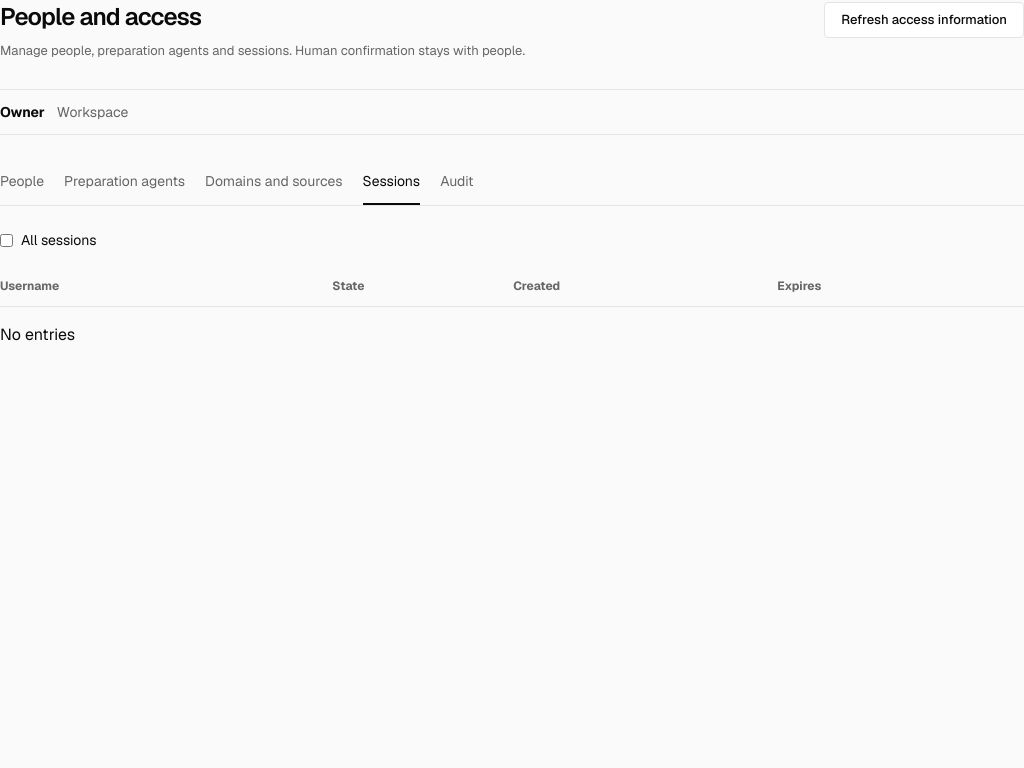
Test case: keeps a failed confirmation reviewable and does not claim that the last admin was removed
Click the button "People".
click(22, 182)  # box 0,159 -> 44,205
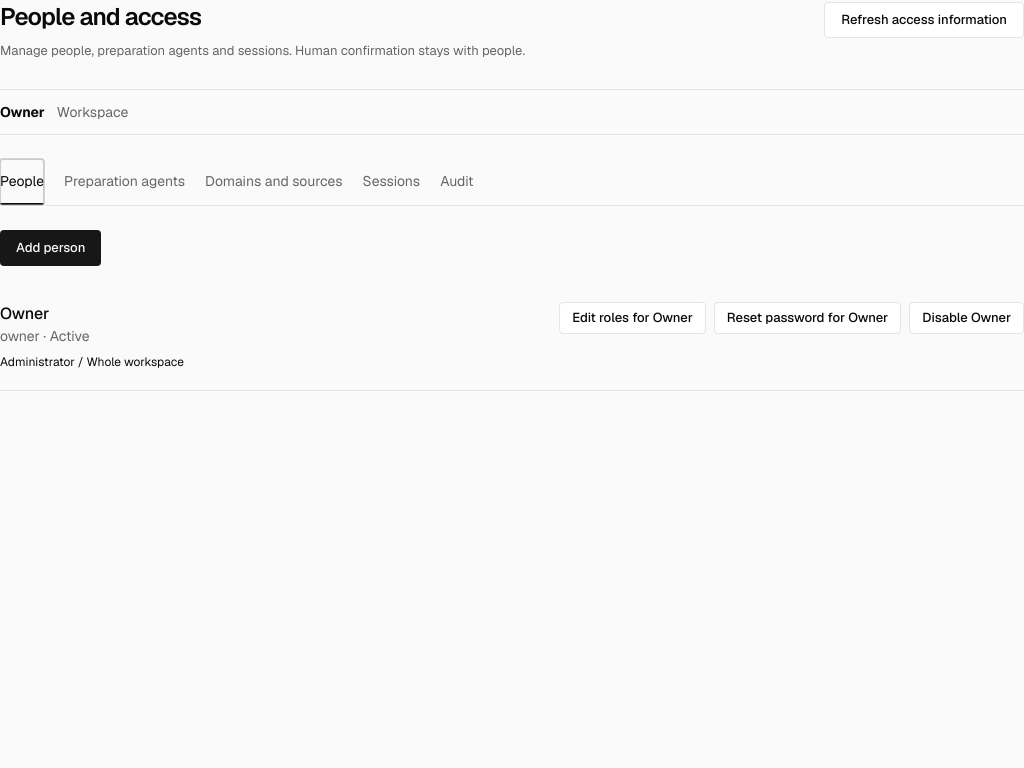
Click the button "Disable Owner".
click(967, 318)  # box 909,302 -> 1023,334
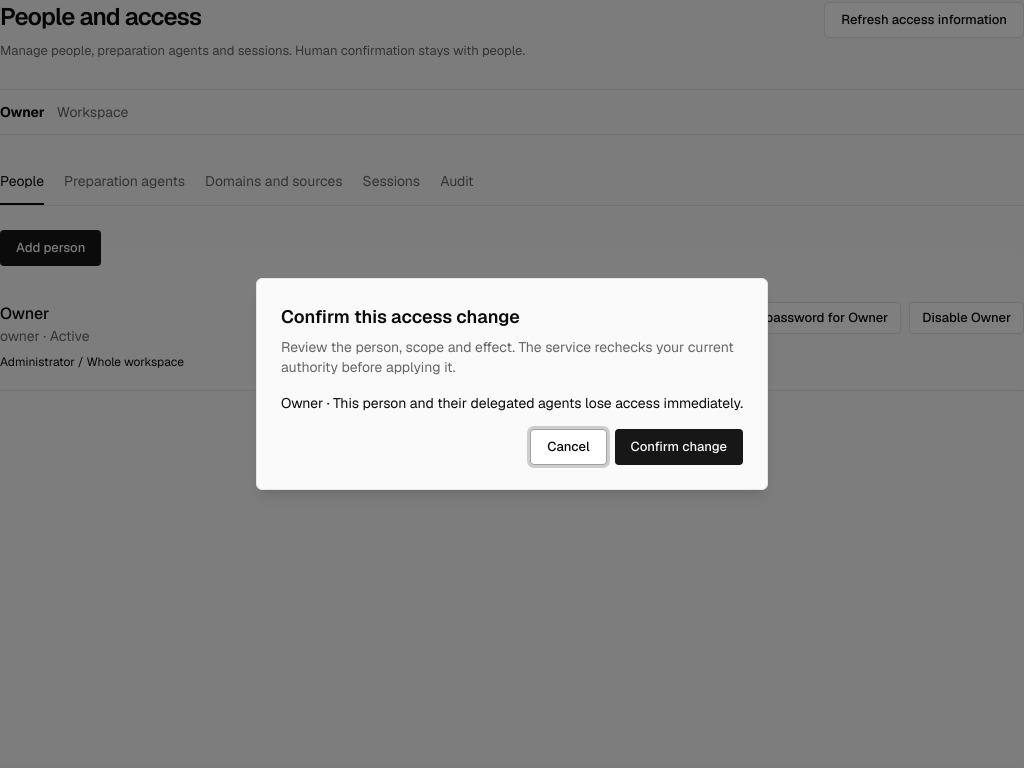
Click the button "Confirm change".
click(679, 447)  # box 615,429 -> 743,465
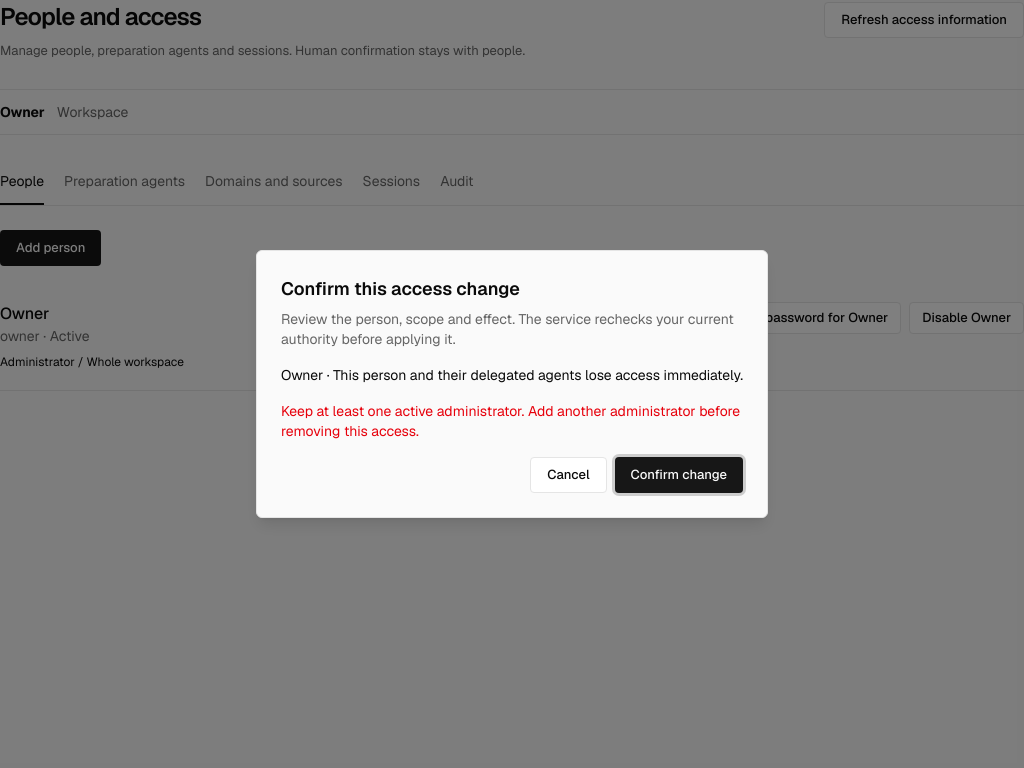
Check: the dialog is shown, box 256,250 -> 768,518
Check: the message shows "Keep at least one active administrator", box 281,402 -> 740,440
Click the button "Cancel".
click(568, 475)  # box 530,457 -> 607,493
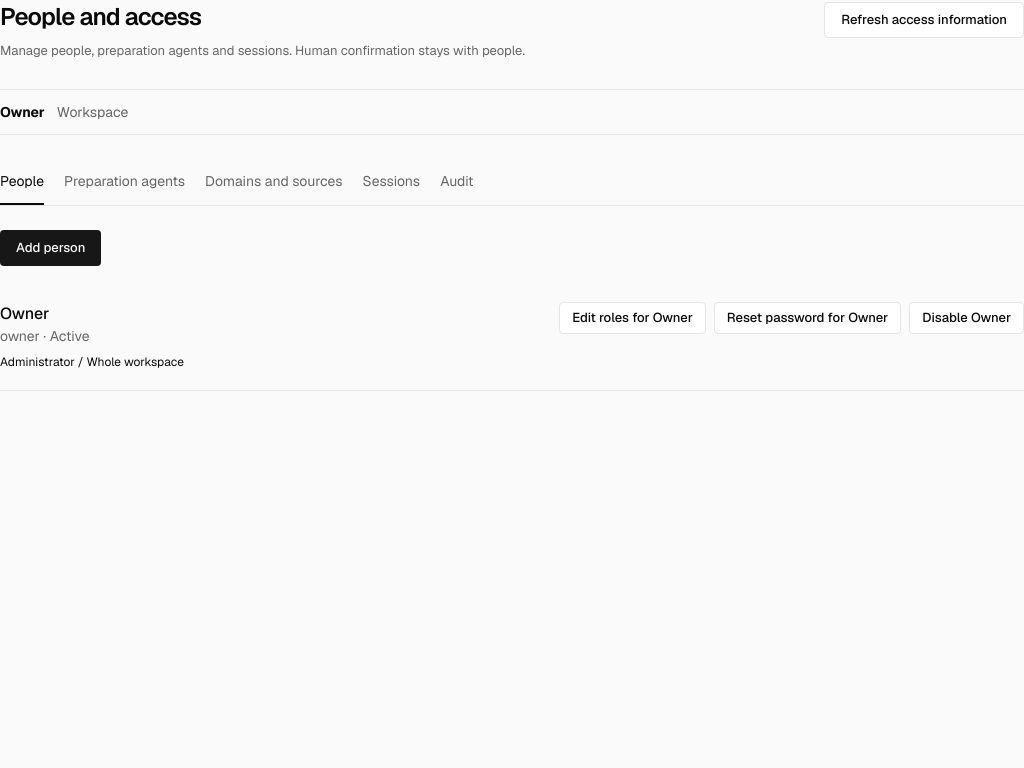
Check: the dialog is gone
